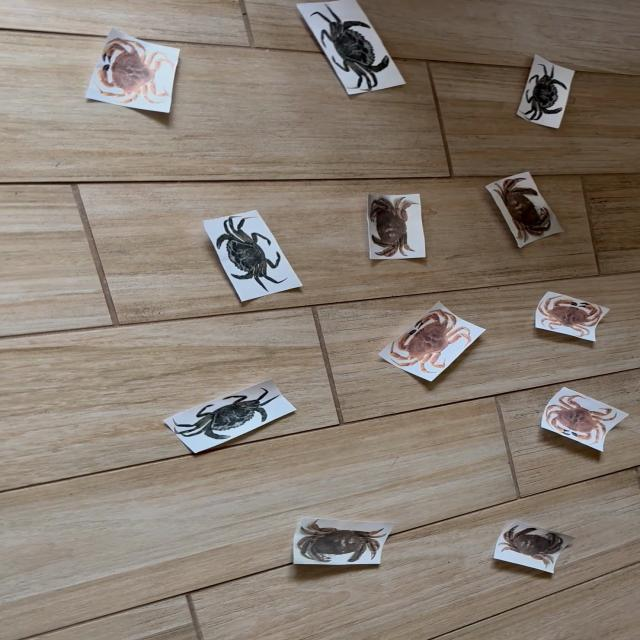egc: (308, 2, 391, 92), (174, 387, 279, 439), (216, 218, 286, 292), (519, 56, 572, 128)
